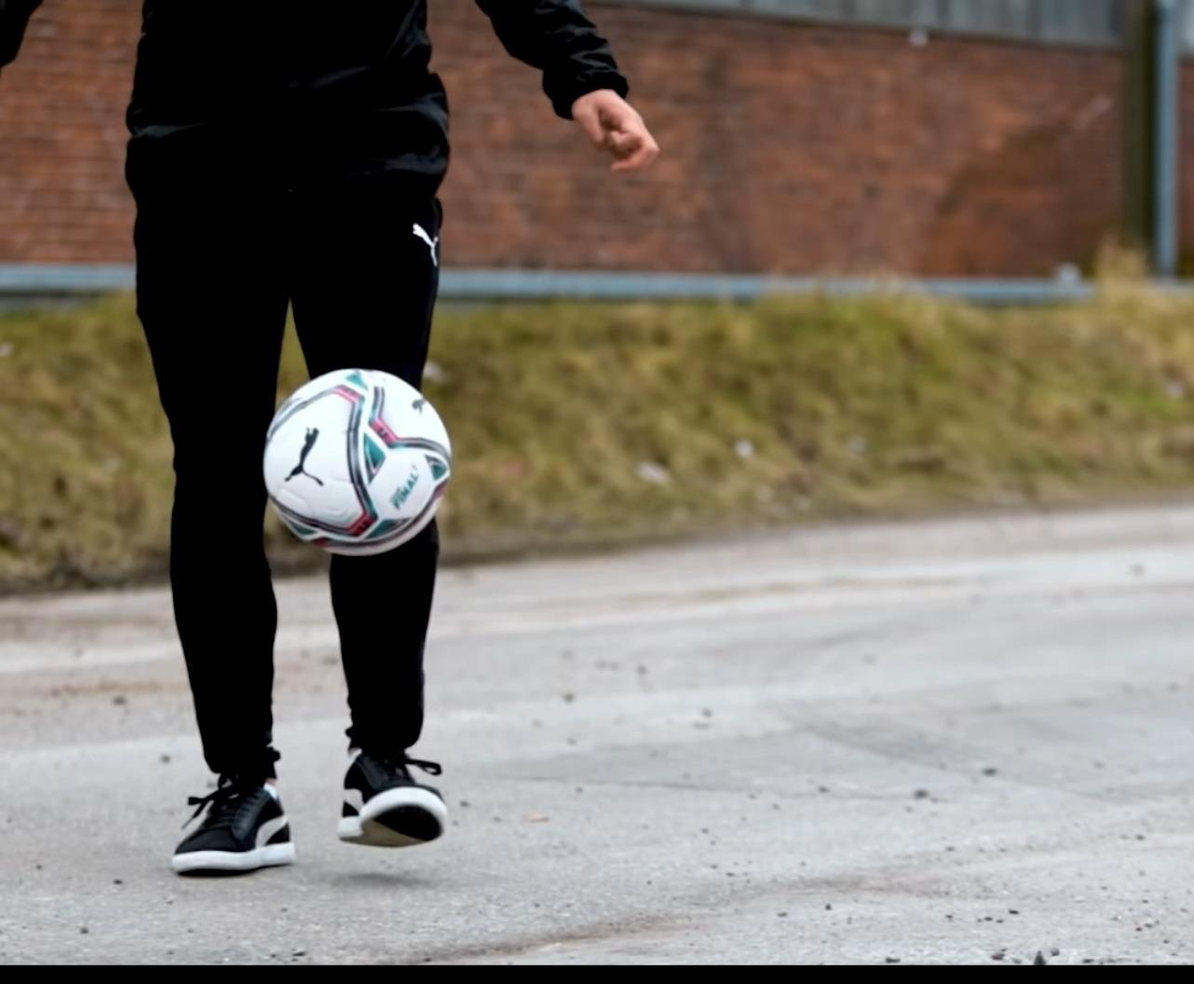ball: (261, 365, 452, 554)
foot: (169, 780, 294, 878), (338, 752, 447, 849)
person: (0, 0, 659, 877)
